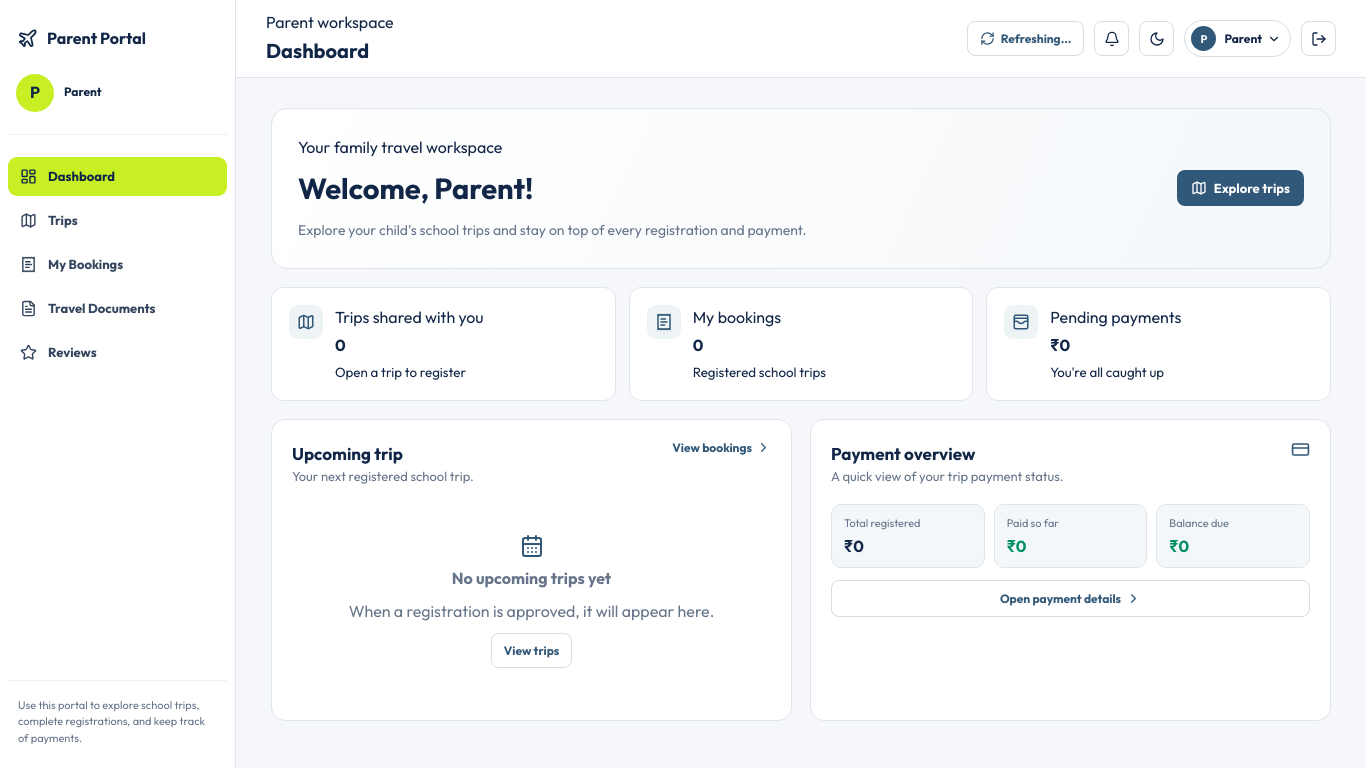
Test: TmcParentPortal › shows assigned trips and links parents to the registration landing page
Expected: the heading "Dashboard" is shown, [266,38,369,63]
Click the button "Trips". click: (118, 220)
box: [8,201,227,240]
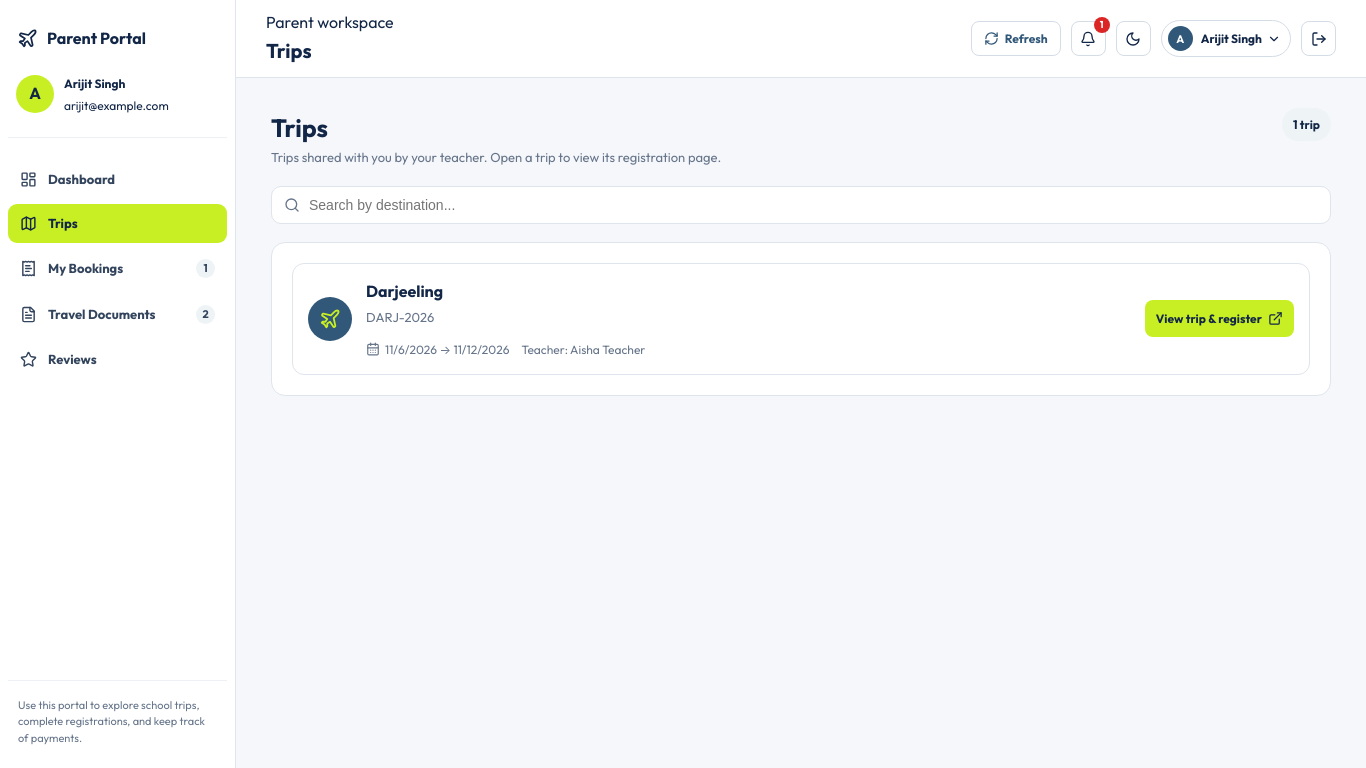
Expected: the 2nd heading "Trips" is shown, [271,112,328,144]
Expected: the heading "Darjeeling" is shown, [366,278,443,304]
Expected: the text "Teacher: Aisha Teacher" is shown, [522,340,645,359]
